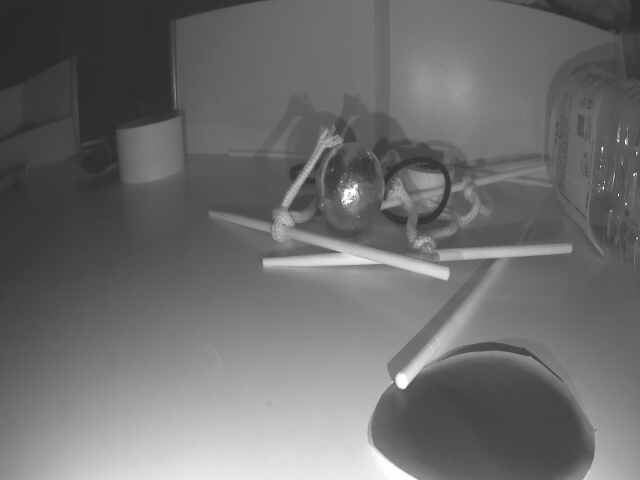Live: (317, 143, 386, 235)
